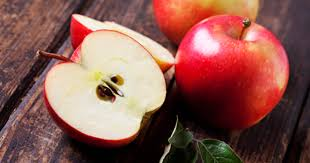apple: (179, 23, 289, 128), (152, 2, 266, 41)
damaged_apple: (35, 34, 168, 144), (67, 13, 178, 69)
